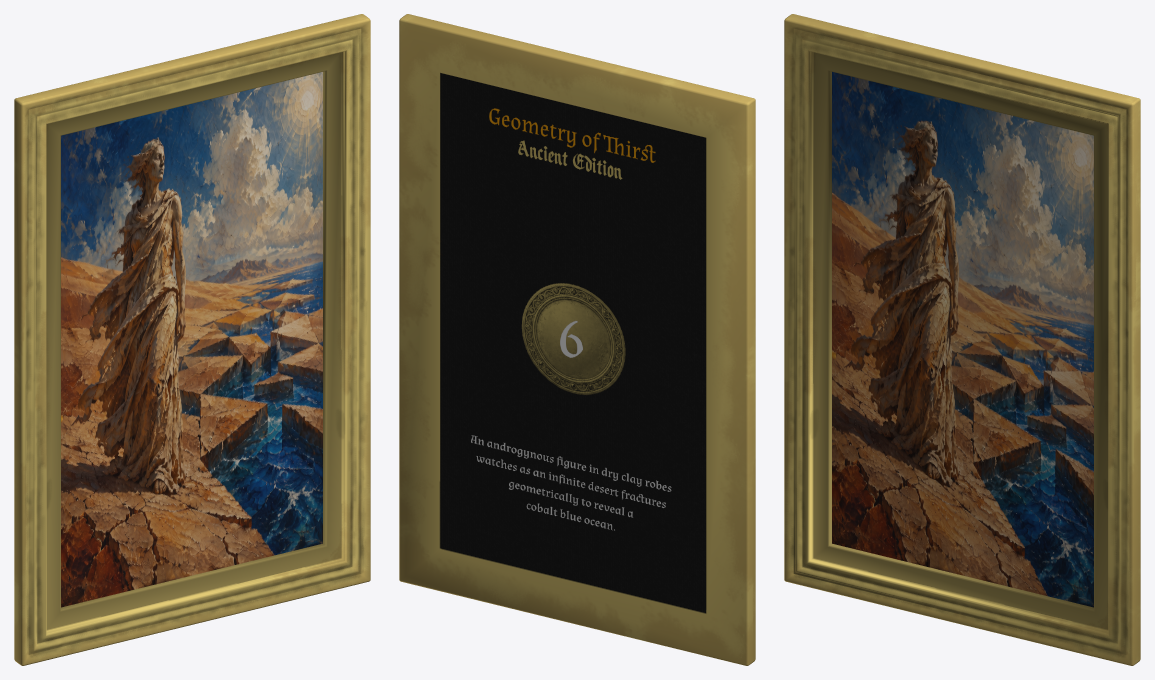
Rendered from nft6.glb.
3 renders of one model, left to right at view 1: azimuth 30°, elevation 25°; view 2: azimuth 150°, elevation 25°; view 3: azimuth 330°, elevation 25°, orthographic.
Parts seen in each view (by area): view 1: LIENZO, MARCO; view 2: MARCO; view 3: LIENZO, MARCO.
Boxes of the visible parts, x1=… form: LIENZO: x1=61, y1=72, x2=322, y2=607; MARCO: x1=14, y1=14, x2=370, y2=665; MARCO: x1=399, y1=14, x2=755, y2=665; LIENZO: x1=832, y1=72, x2=1093, y2=607; MARCO: x1=784, y1=14, x2=1140, y2=665.
Size of the model in its own units: 0.4615 by 0.7104 by 0.0195.
2 materials, 2 textured.
